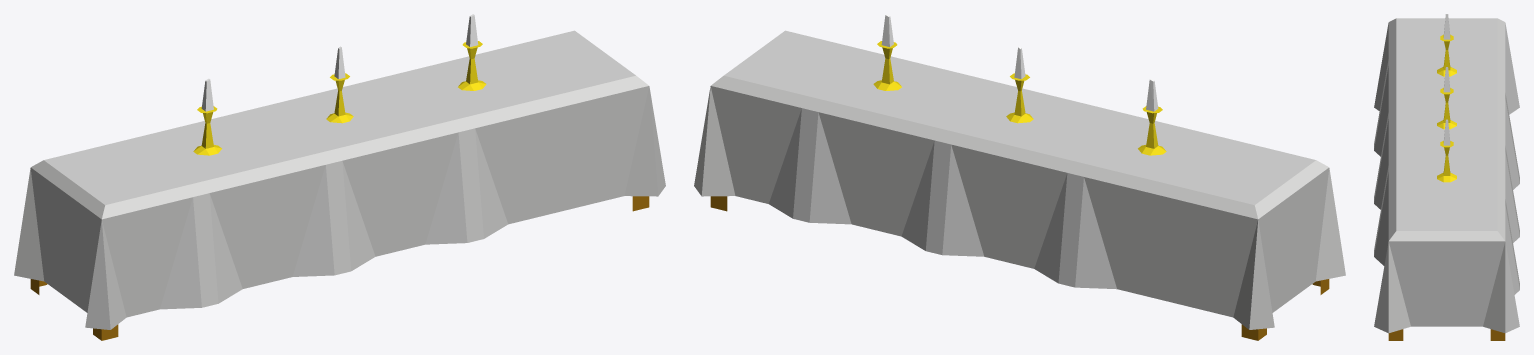
The model's file is obj_table_4_0.obj.
The picture shows the model from 3 angles, left to right: view 1: azimuth 30°, elevation 25°; view 2: azimuth 150°, elevation 25°; view 3: azimuth 270°, elevation 25°; orthographic projection. The views are drawn at different scales.
Size of the model in its own units: 3.83 by 1.27 by 1.02.
